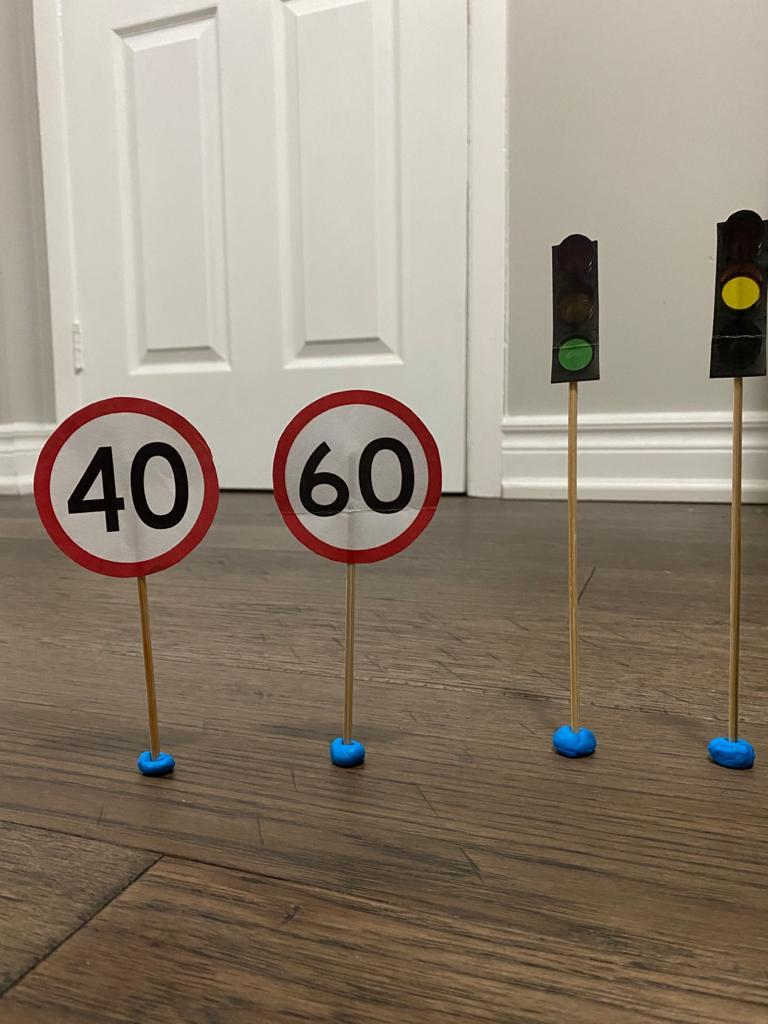Green Traffic Light: (538, 230, 610, 392)
Speed Limit 40: (31, 391, 223, 587)
Speed Limit 60: (267, 389, 450, 569)
Yellow Traffic Light: (700, 208, 768, 388)
